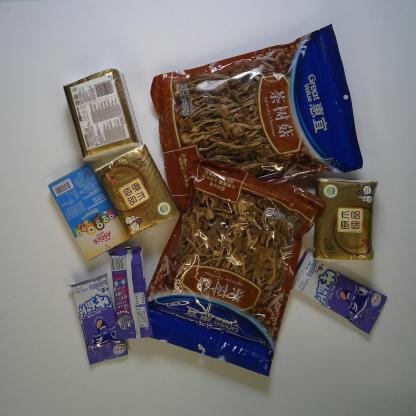Candy: (291, 248, 389, 335), (68, 274, 130, 369), (106, 246, 156, 343)
Dessert: (46, 162, 130, 263)
Dried Food: (139, 156, 327, 378), (150, 24, 364, 208)
Tissue: (93, 142, 183, 239), (62, 66, 142, 166), (311, 176, 379, 264)
